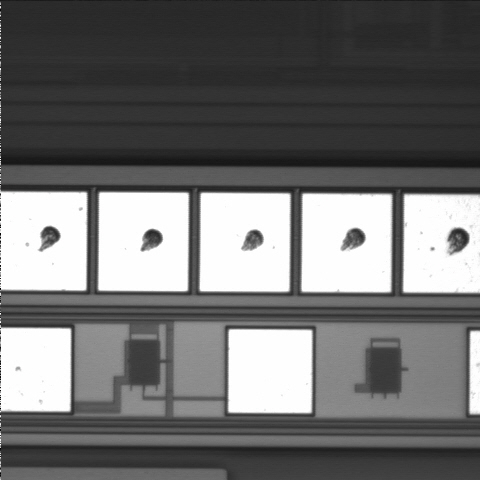pad: (98, 192, 189, 291), (200, 193, 290, 292), (302, 194, 392, 292), (228, 329, 312, 413)
